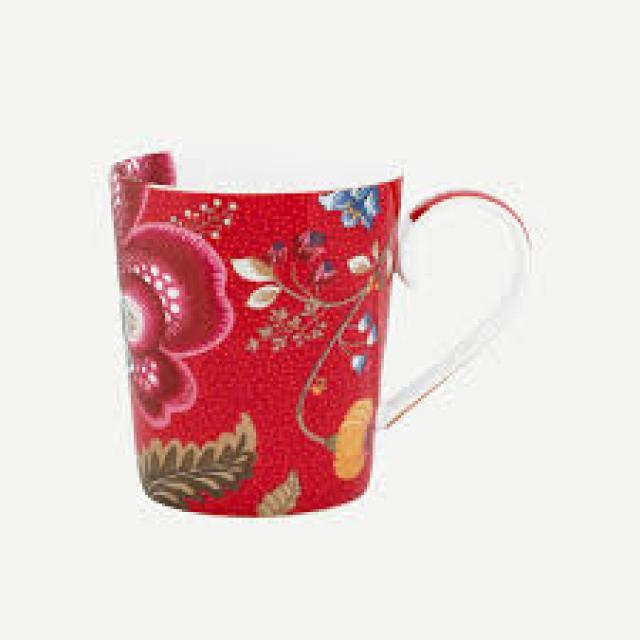taza: (109, 133, 534, 519)
